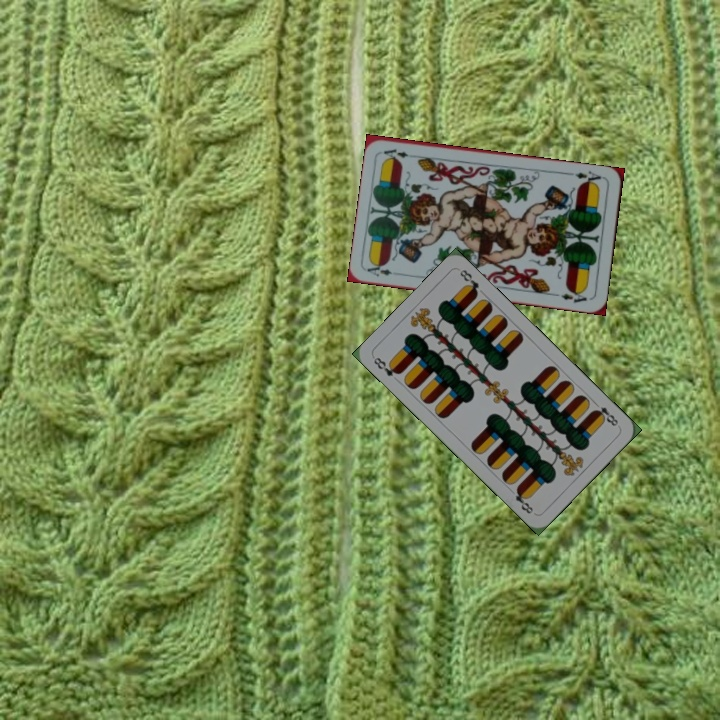E8: (589, 397, 621, 429), (369, 353, 403, 379)
EA: (566, 167, 607, 188), (363, 260, 404, 279)
